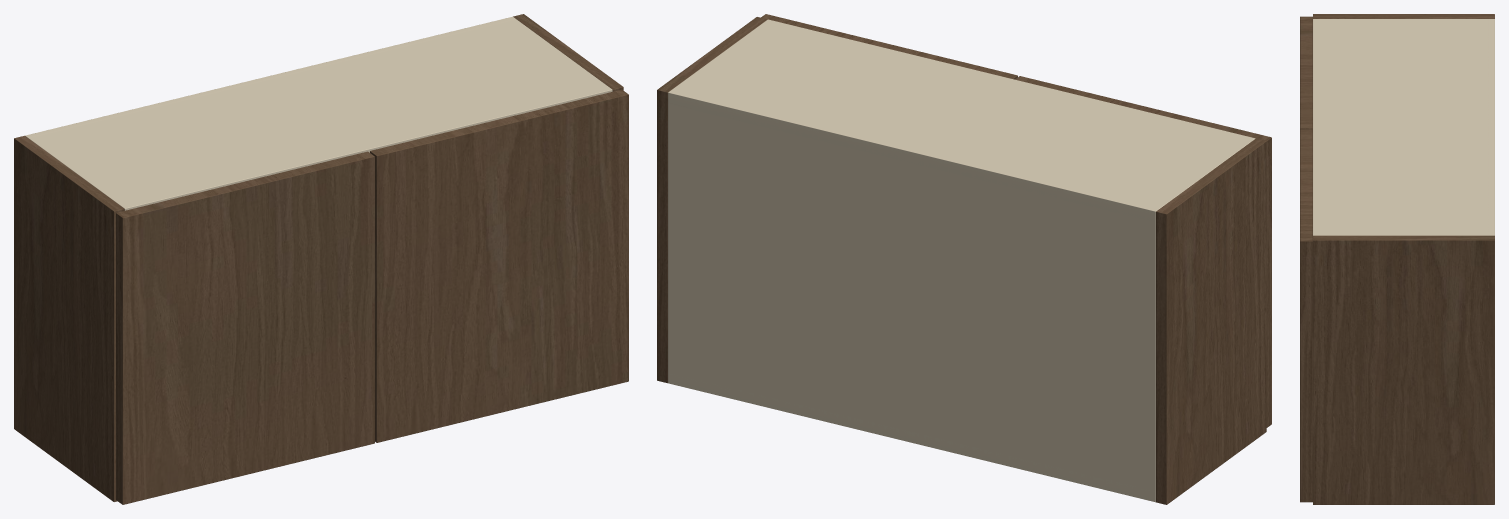
The model's file is oppein-ply-mso-w3318.glb.
The picture shows the model from 3 angles, left to right: view 1: azimuth 30°, elevation 25°; view 2: azimuth 150°, elevation 25°; view 3: azimuth 270°, elevation 25°; orthographic projection. The views are drawn at different scales.
Parts seen in each view (by area): view 1: Door, Door.001, Cabinet top, Cabinet side, Cabinet back, Cabinet side.001; view 2: Cabinet back, Cabinet top, Cabinet side, Cabinet side.001, Cabinet bottom, Door, Door.001; view 3: Cabinet side.001, Cabinet top, Door.001, Cabinet back, Door, Cabinet side.
Part boxes in pixels (box(x1,y1,x2,y2)): Door: box(116, 151, 374, 504); Door.001: box(370, 89, 628, 442); Cabinet top: box(25, 18, 612, 210); Cabinet side: box(14, 135, 124, 501); Cabinet back: box(25, 16, 515, 138); Cabinet side.001: box(513, 14, 623, 91); Cabinet back: box(668, 89, 1159, 502); Cabinet top: box(668, 19, 1255, 221); Cabinet side: box(1156, 138, 1266, 504); Cabinet side.001: box(657, 17, 767, 383); Cabinet bottom: box(668, 372, 1155, 501); Door: box(1015, 76, 1271, 427); Door.001: box(761, 14, 1017, 79); Cabinet side.001: box(1313, 235, 1494, 504); Cabinet top: box(1313, 19, 1494, 235); Door.001: box(1300, 129, 1312, 502); Cabinet back: box(1487, 19, 1494, 235); Door: box(1300, 16, 1312, 129); Cabinet side: box(1313, 14, 1494, 18).
Size of the model in its own units: 0.8382 by 0.4572 by 0.3048.
2 materials, 1 textured.
